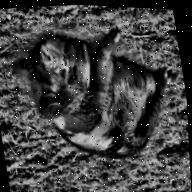boar: (0, 9, 191, 183)
